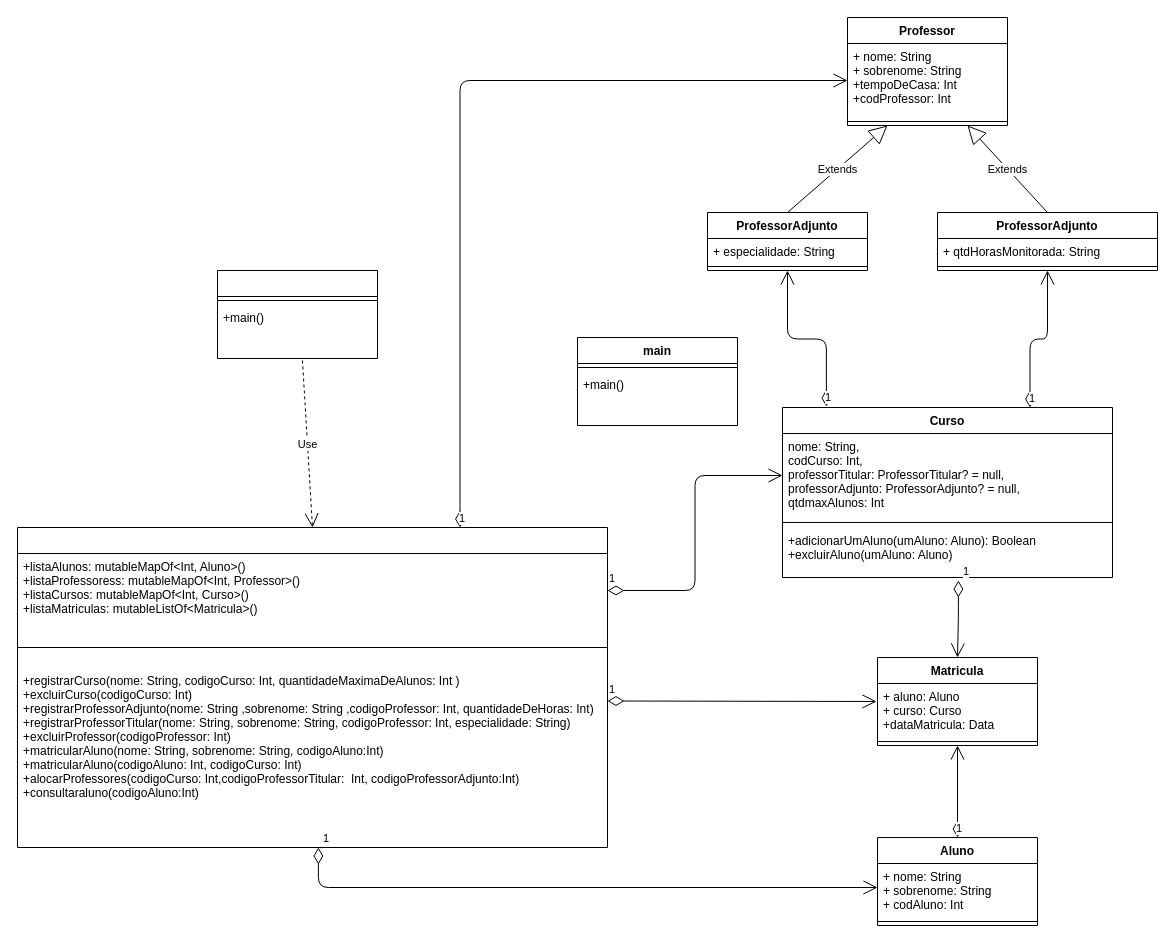
Image size: 1175x943. Some labels were removed from this diagram. Here are the shapes that lost their labels. From the top down, the box of each, then its label:
(216, 270, 378, 358): Principal
(16, 526, 608, 848): DigitalHouse
